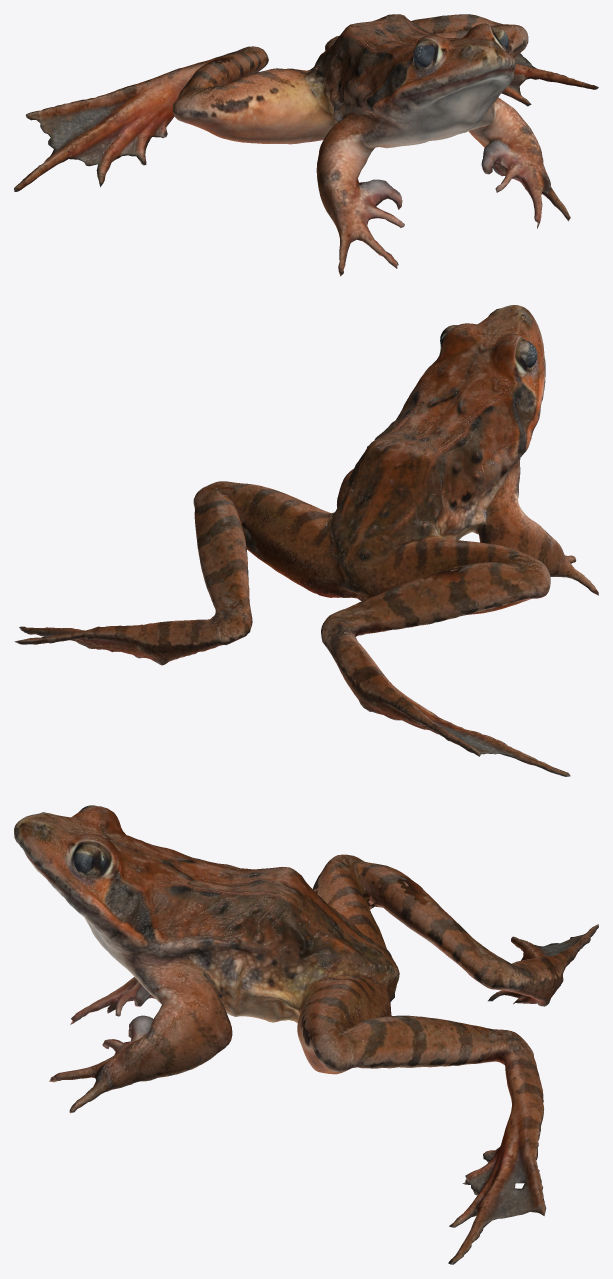
Rendered from montane-frog-hopping-packed-v1.glb.
3 renders of one model, top to bottom at view 1: azimuth 30°, elevation 25°; view 2: azimuth 150°, elevation 25°; view 3: azimuth 270°, elevation 25°, orthographic. The views are drawn at different scales.
Parts seen in each view (by area): view 1: SW_Hop_SW_frog_Montane Brown Frog (F), SW_Hop_SW_frog_Eye; view 2: SW_Hop_SW_frog_Montane Brown Frog (F); view 3: SW_Hop_SW_frog_Montane Brown Frog (F), SW_Hop_SW_frog_Eye.001.
Boxes of the visible parts, <box> form: SW_Hop_SW_frog_Montane Brown Frog (F): <box>14,14,598,276</box>; SW_Hop_SW_frog_Eye: <box>413,41,434,67</box>; SW_Hop_SW_frog_Montane Brown Frog (F): <box>14,305,598,776</box>; SW_Hop_SW_frog_Montane Brown Frog (F): <box>14,806,598,1264</box>; SW_Hop_SW_frog_Eye.001: <box>73,845,103,876</box>.
Bounding box in the file's own units: 1.1 × 0.4689 × 0.8731.
Materials: 3 (3 with a texture image).
